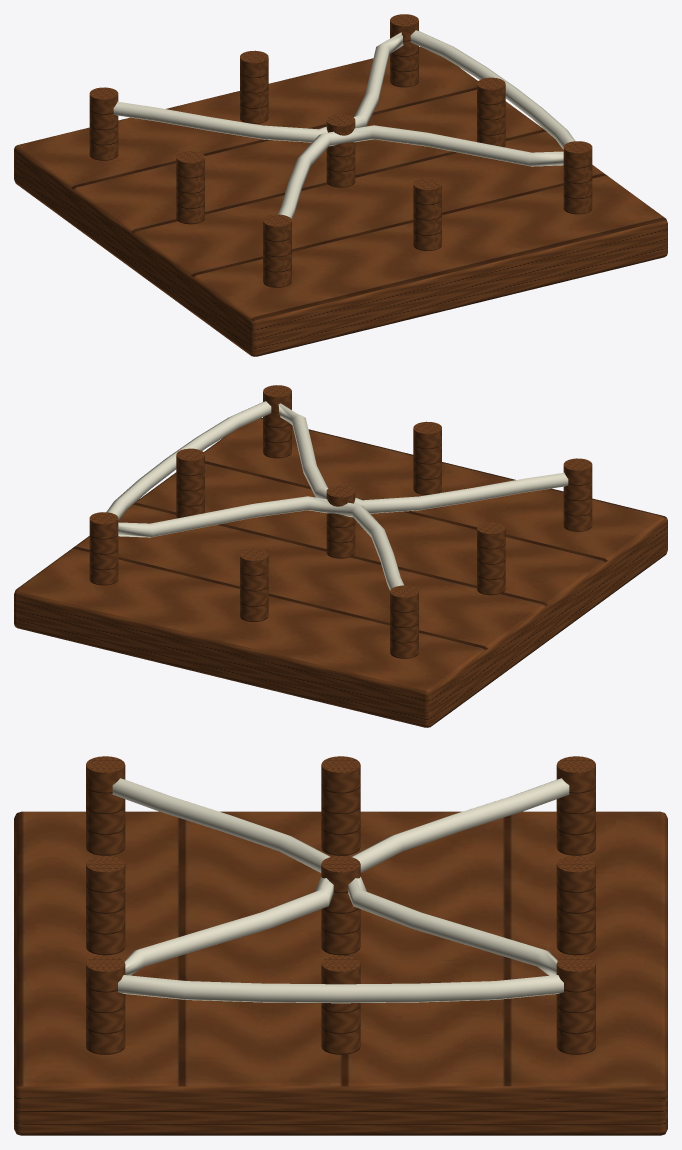
The model's file is primitive-crafting-workshop-knotting-peg-board-48c6dacc__21559.glb.
The picture shows the model from 3 angles, top to bottom: view 1: azimuth 30°, elevation 25°; view 2: azimuth 150°, elevation 25°; view 3: azimuth 270°, elevation 25°; orthographic projection. The views are drawn at different scales.
Parts seen in each view (by area): view 1: knotting-peg-board; view 2: knotting-peg-board; view 3: knotting-peg-board.
Part boxes in pixels (x1=…): knotting-peg-board: x1=14, y1=14, x2=667, y2=356; knotting-peg-board: x1=14, y1=385, x2=667, y2=727; knotting-peg-board: x1=14, y1=756, x2=667, y2=1135.
Bounding box in the file's own units: 0.5 × 0.115 × 0.5.
2 materials, 1 textured.
